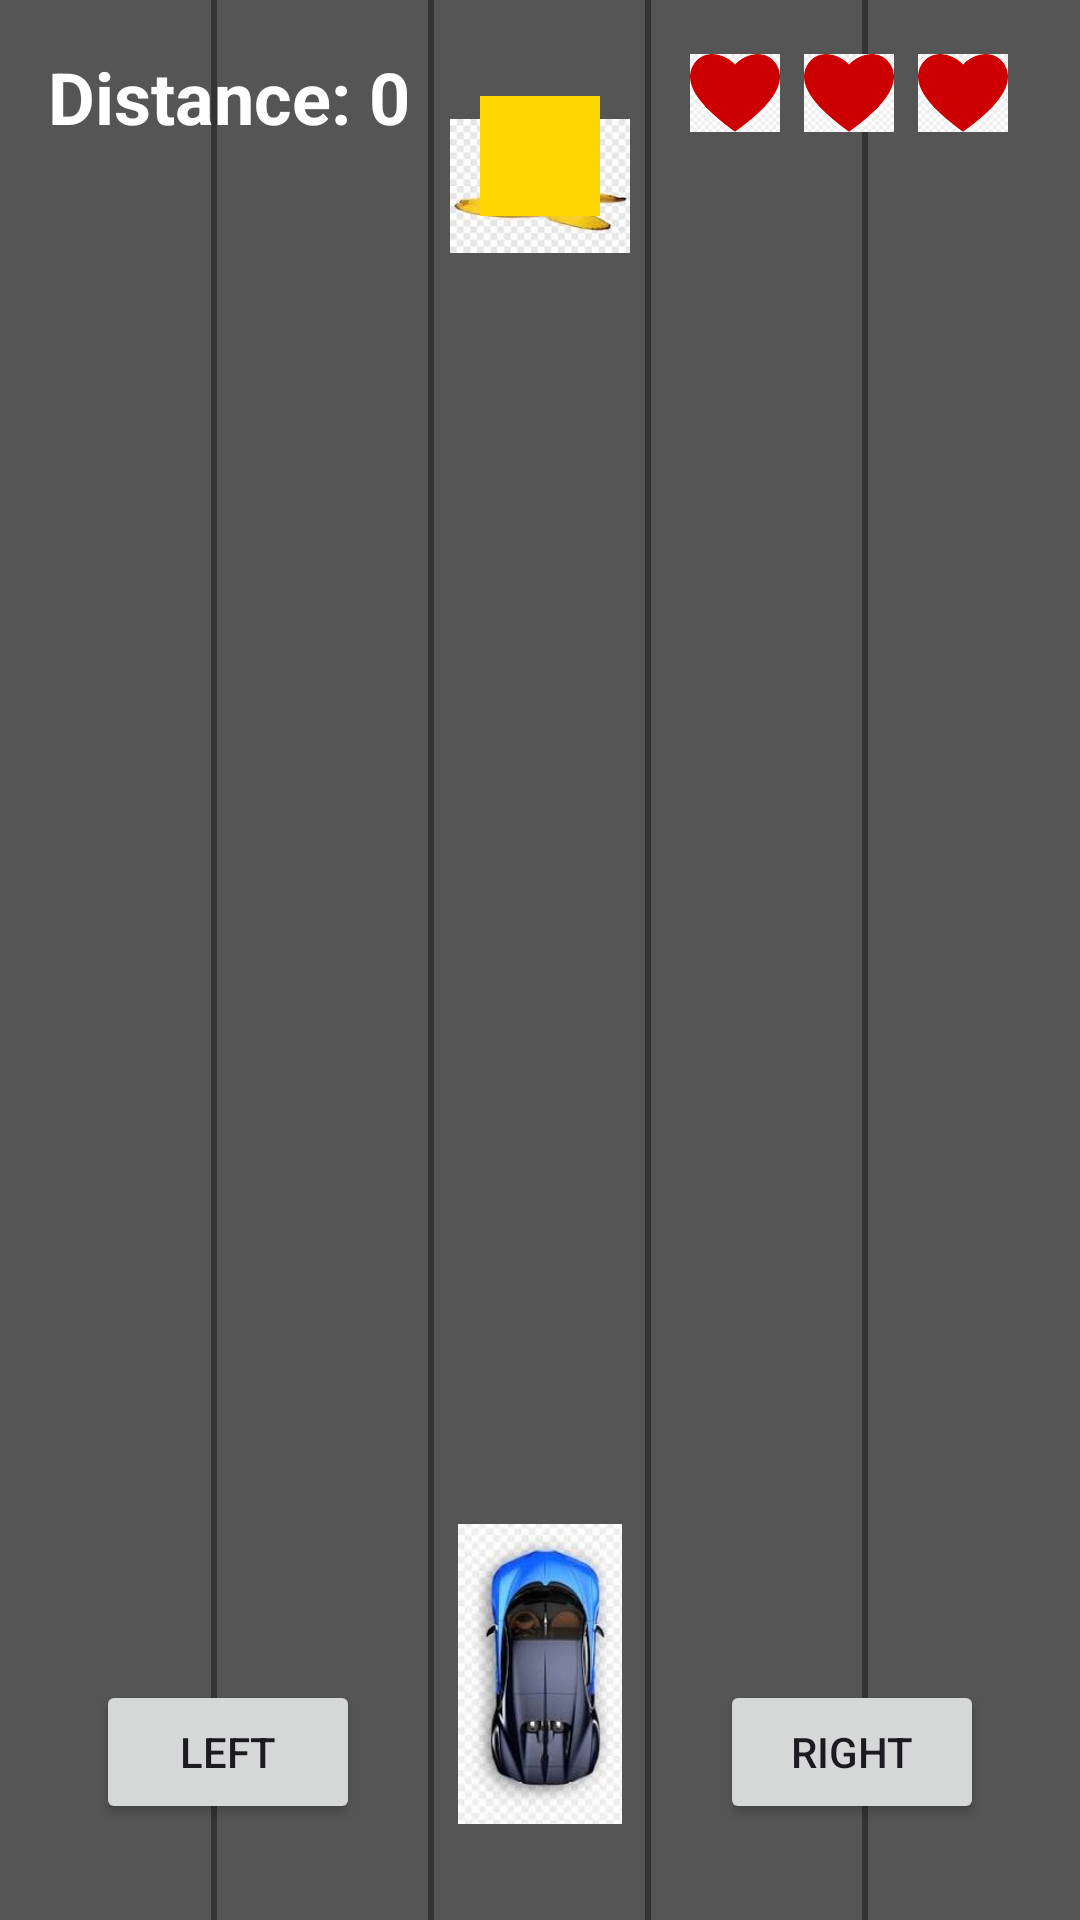

Where icons sit on this 1080px×1920px app screen, as (x1, y1, x2, y2):
car: (458, 1524, 622, 1824)
heart: (804, 48, 894, 138), (690, 54, 780, 132), (918, 54, 1008, 132)
